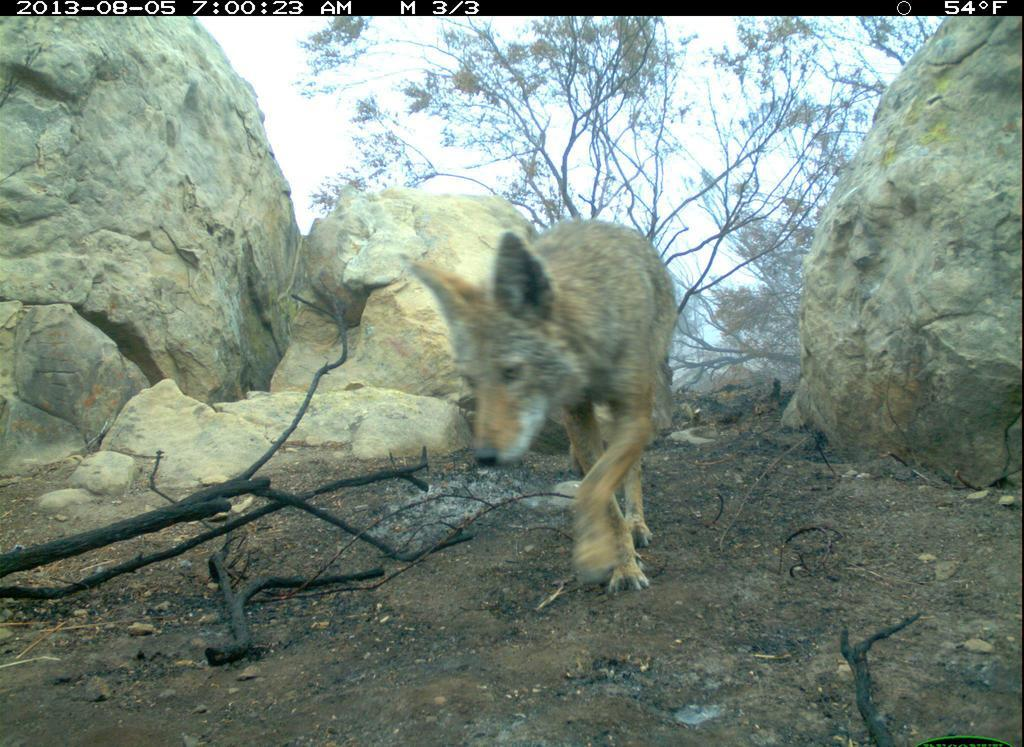coyote: (393, 214, 699, 611)
